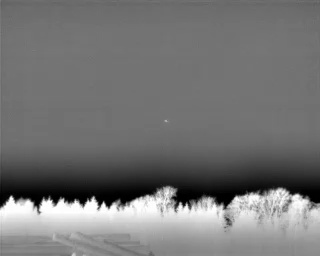BIRD: (162, 117, 170, 125)
